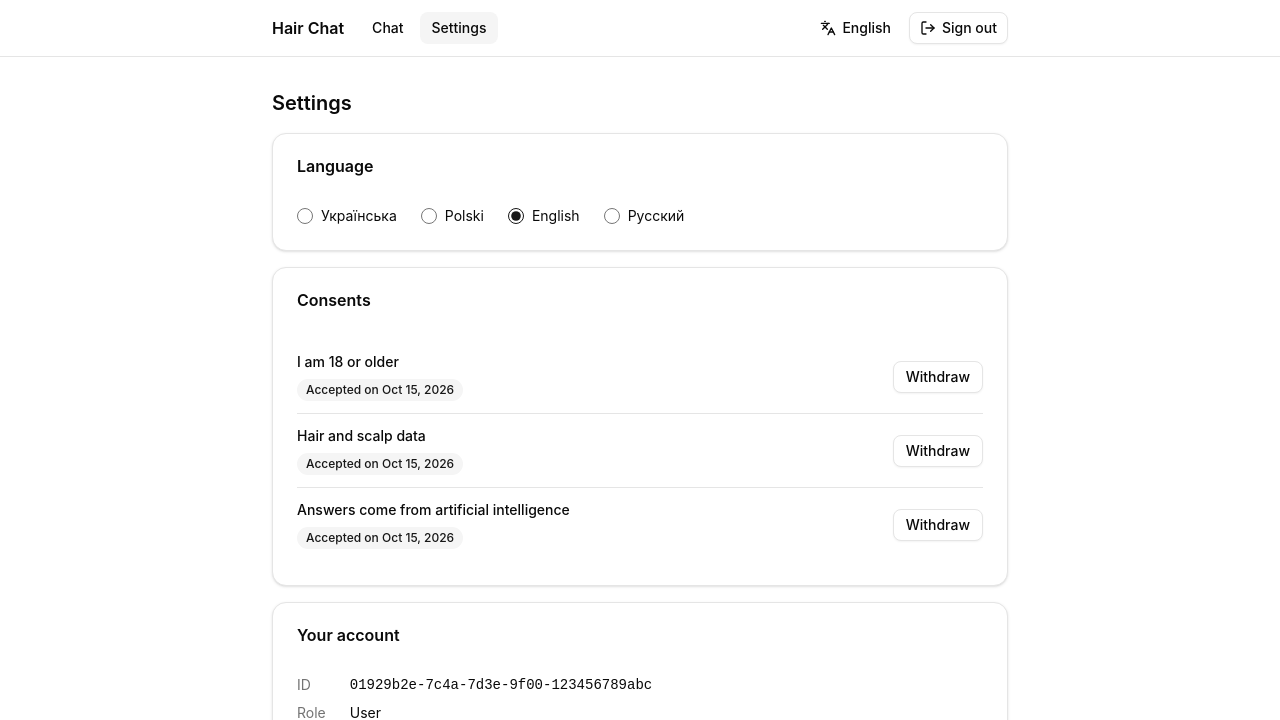
it: profile language › keeps the new language and shows a toast when PATCH /me fails
Click the radio button labelled "Українська".
click(305, 216)  # box [297,208,313,224]
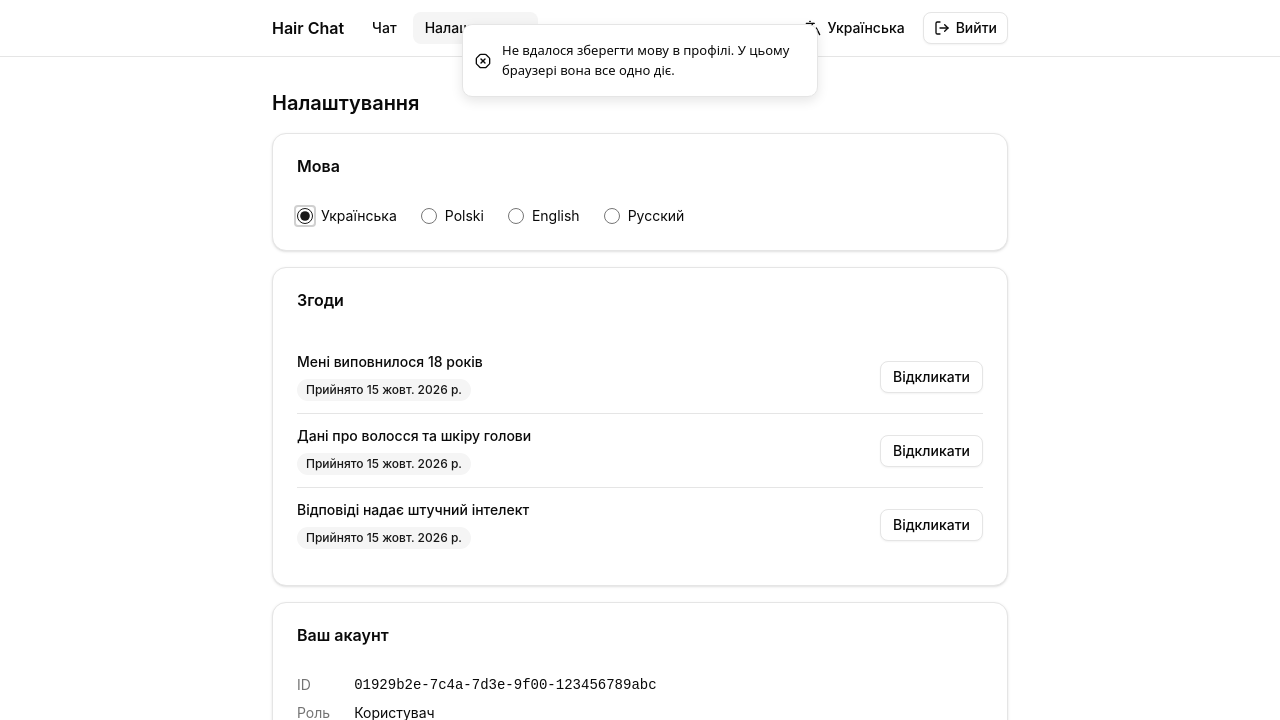
Expected: the radio button labelled "Українська" is checked, [297,208,313,224]
Expected: the text "Не вдалося зберегти мову в профілі. У цьому браузері вона все одно діє." is shown, [502,41,801,80]
Expected: the heading "Налаштування" is shown, [272,91,420,115]
